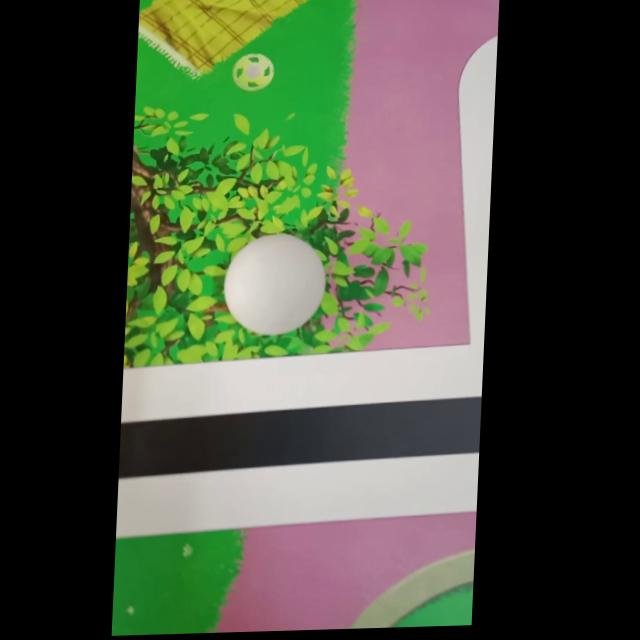white ball: (221, 230, 329, 337)
